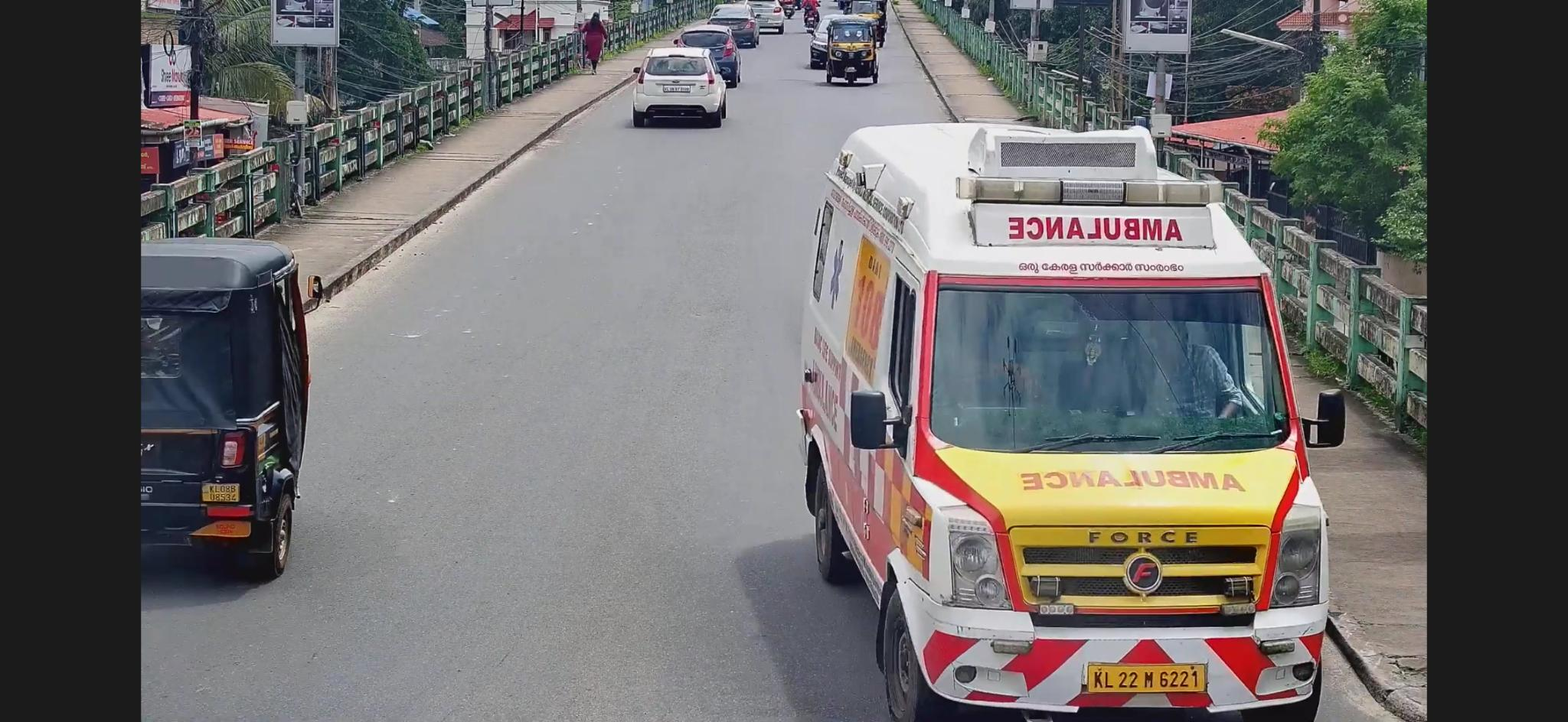ambulance: (823, 110, 1331, 719)
